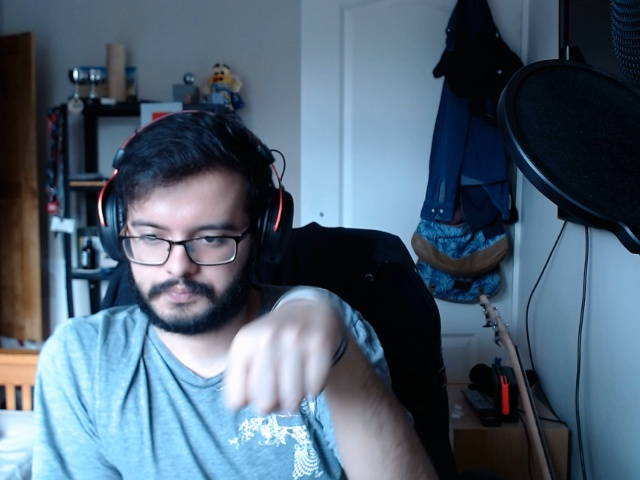Yes: (213, 299, 347, 421)
